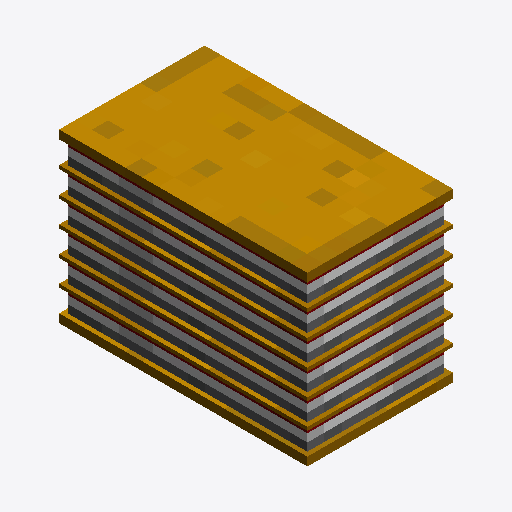
A Minecraft block model of 13 cuboids, rendered isometrically (azimuth 45°, elevation 35.3°) with the resource pack's own textures.
Parts seen in each view (by area): element 13, element 1, element 7, element 9, element 10, element 2, element 4, element 12, element 5, element 6, element 3, element 8 (+1 smaller).
Boxes of the visible parts, box(x1,y1,x2,y2) form: element 13: box(59, 46, 452, 282); element 1: box(68, 293, 443, 451); element 7: box(68, 204, 443, 362); element 9: box(68, 174, 443, 332); element 10: box(68, 145, 443, 302); element 2: box(68, 263, 443, 421); element 4: box(68, 234, 443, 391); element 12: box(59, 308, 452, 465); element 5: box(59, 249, 452, 400); element 6: box(59, 220, 452, 371); element 3: box(59, 279, 452, 430); element 8: box(59, 190, 452, 341).
Size of the model in its own units: 8.5 by 9.8 by 14.5.